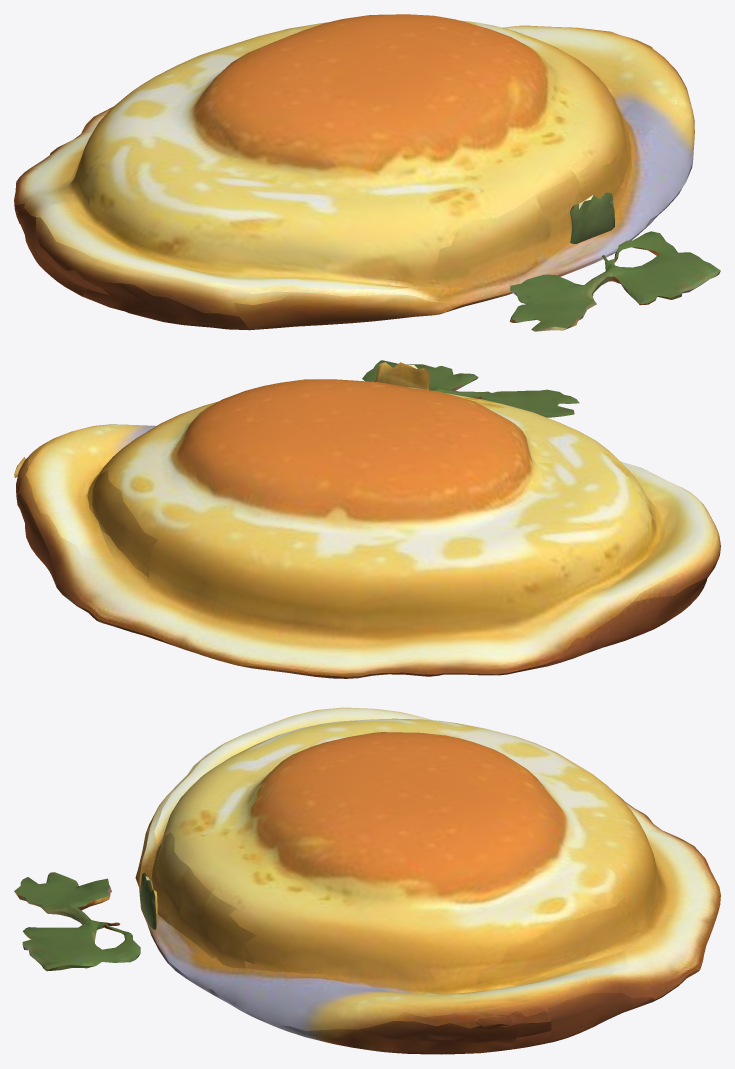
The model's file is omelette.glb.
3 views of the same model, one above another, from view 1: azimuth 30°, elevation 25°; view 2: azimuth 150°, elevation 25°; view 3: azimuth 270°, elevation 25° (orthographic). The views are drawn at different scales.
Visible parts, largest first — view 1: item_omelette; view 2: item_omelette; view 3: item_omelette.
Boxes of the visible parts, x1,y1,x2,y2 form: item_omelette: (14,14,720,331); item_omelette: (14,360,720,678); item_omelette: (14,707,720,1054).
Size of the model in its own units: 1 by 0.1956 by 0.9596.
Materials: 1 (1 with a texture image).
